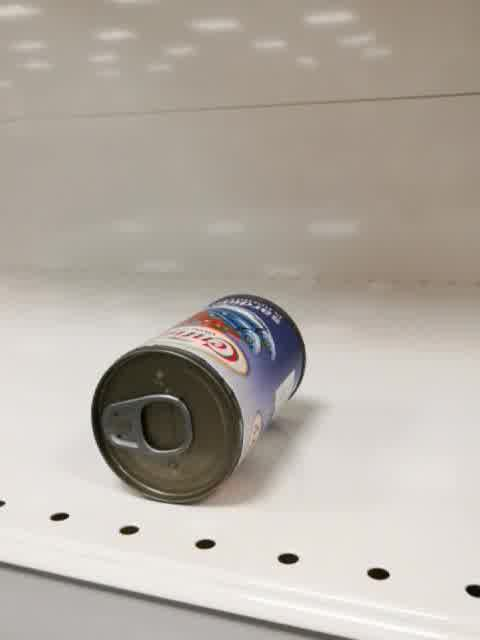sardine: (90, 292, 307, 504)
